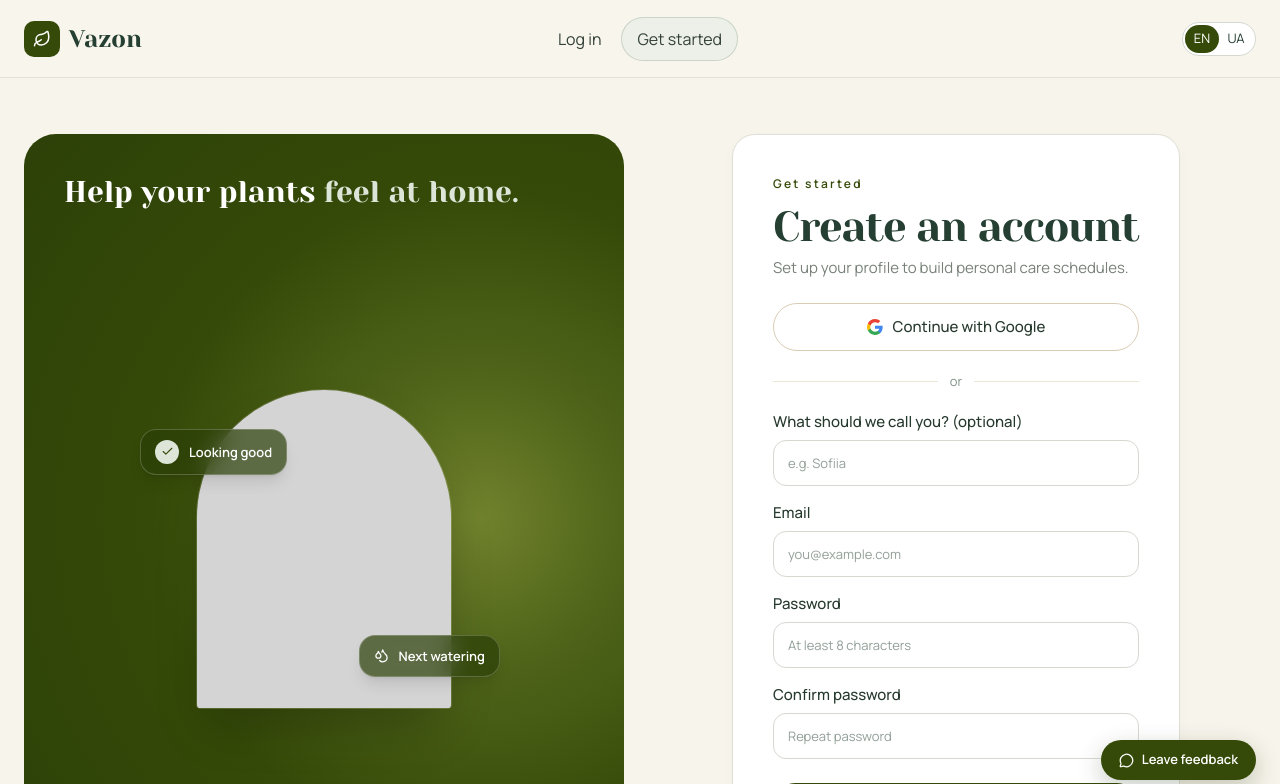
App routing and auth › registers, logs out, and handles login error
This screenshot has width=1280, height=784.
Type "a@b.com" into the field labelled "Email". click: (956, 554)
box: [773,531,1139,577]
Type "password123" into the password field labelled "Password". click: (956, 645)
box: [773,622,1139,668]
Type "password123" into the password field labelled "Confirm password". click: (956, 736)
box: [773,713,1139,759]
(page scrolled)
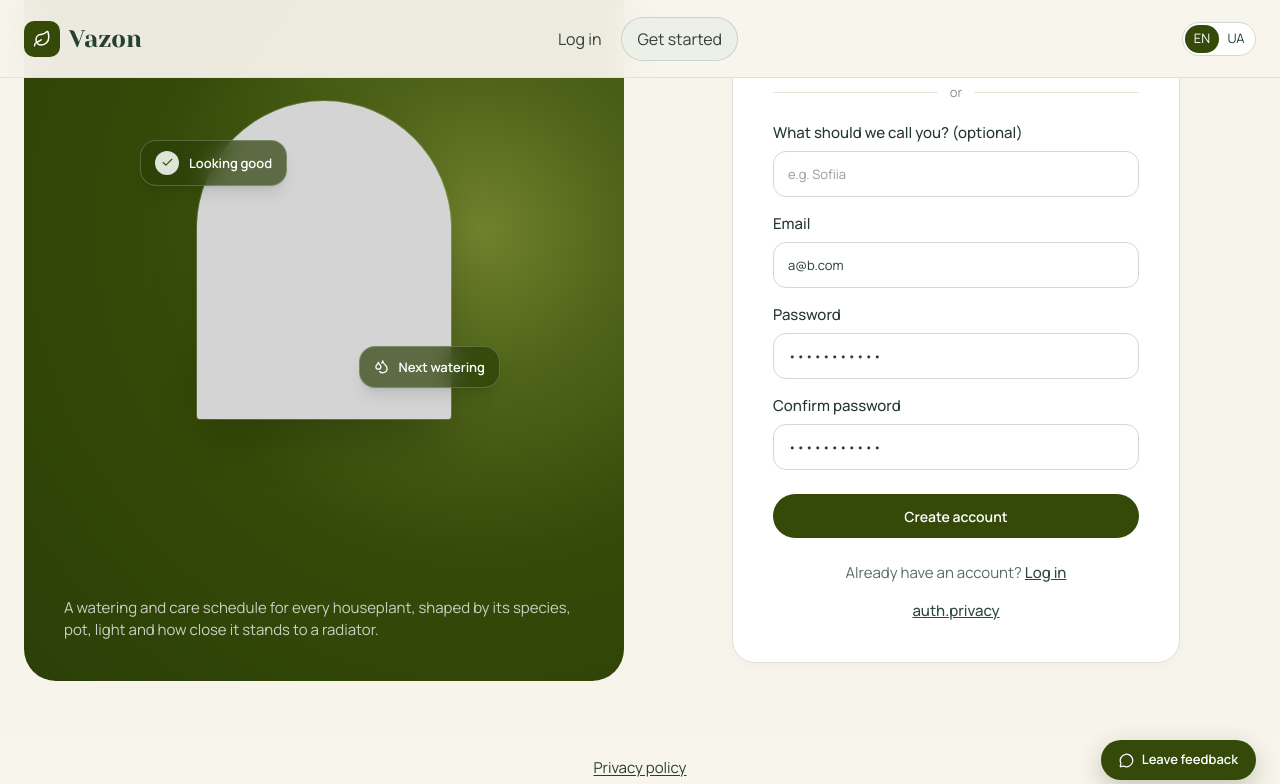
Click the button "Create account". click: (956, 516)
box: [773,494,1139,538]
(page scrolled)
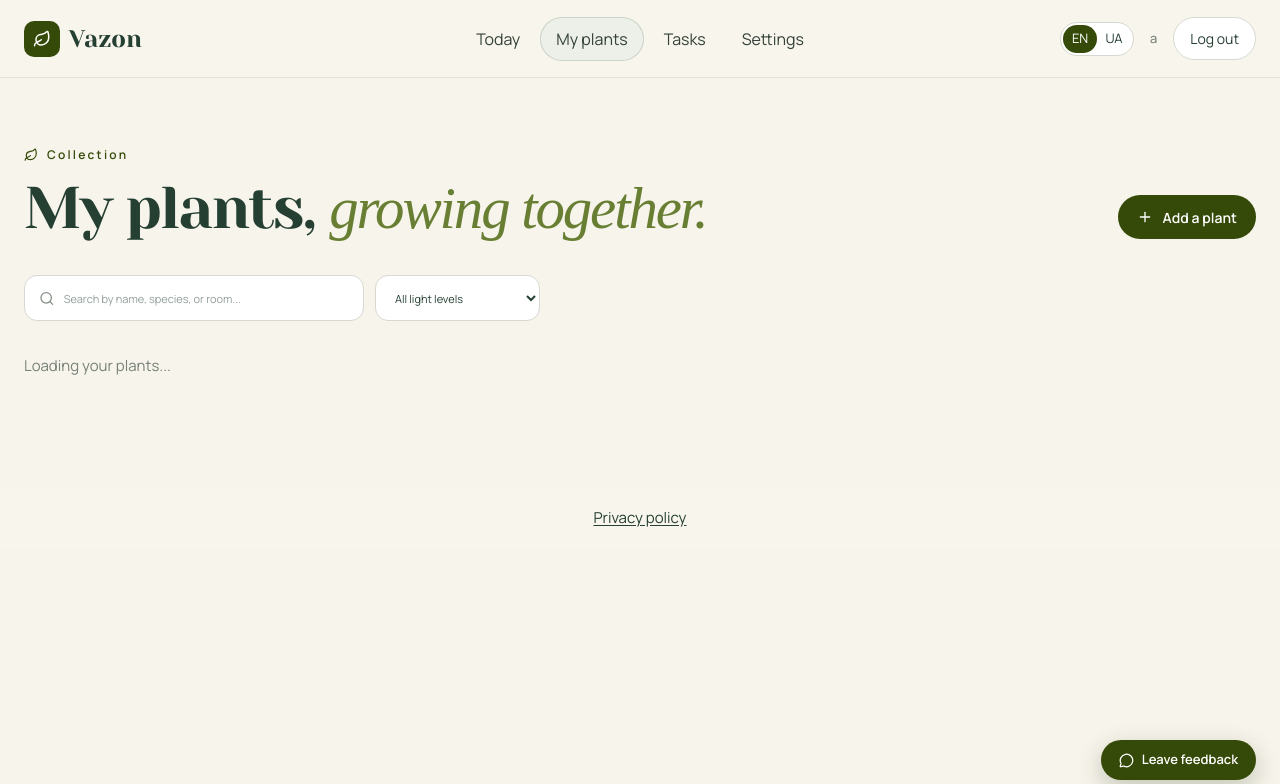
Expected: the heading "My plants, growing together." is shown, [24,178,707,239]
Click the button "Log out". click: (1215, 38)
box: [1173,17,1256,60]
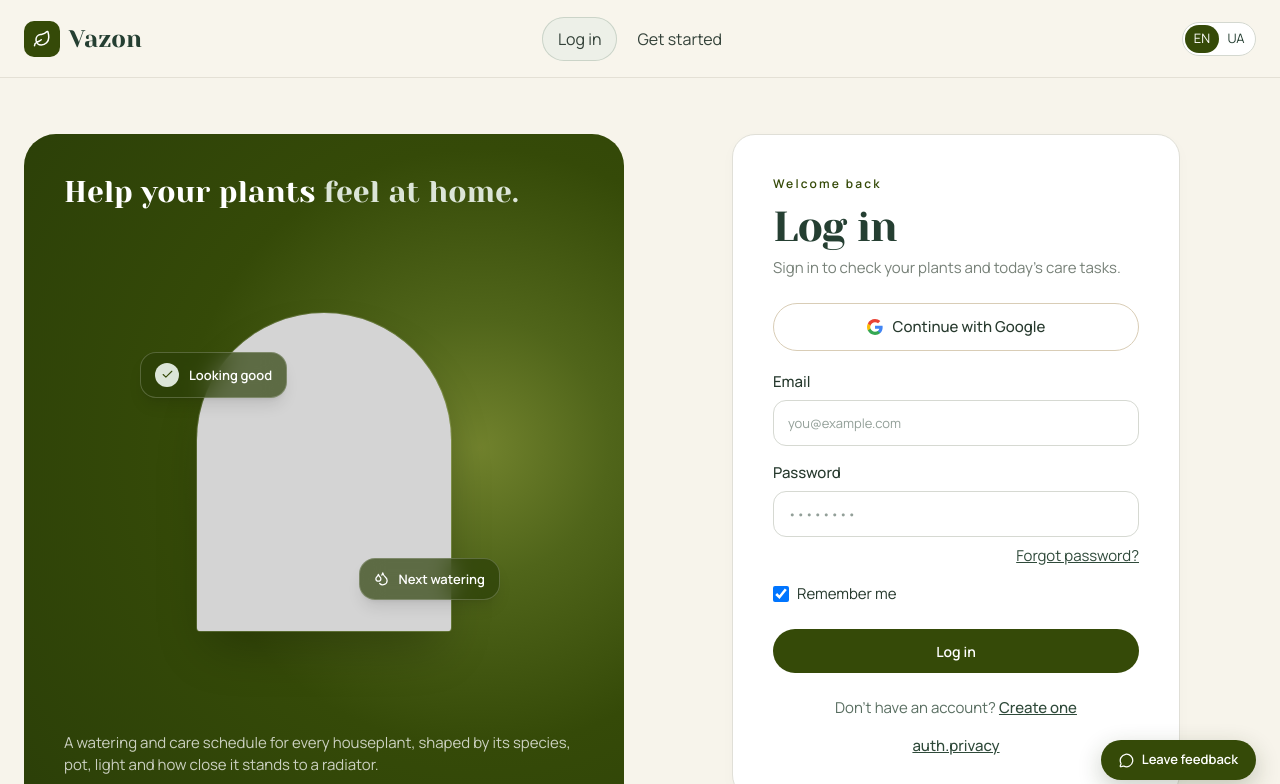
Expected: the heading "Log in" is shown, [773,203,896,251]
Type "bad@b.com" into the field labelled "Email". click: (956, 423)
box: [773,400,1139,446]
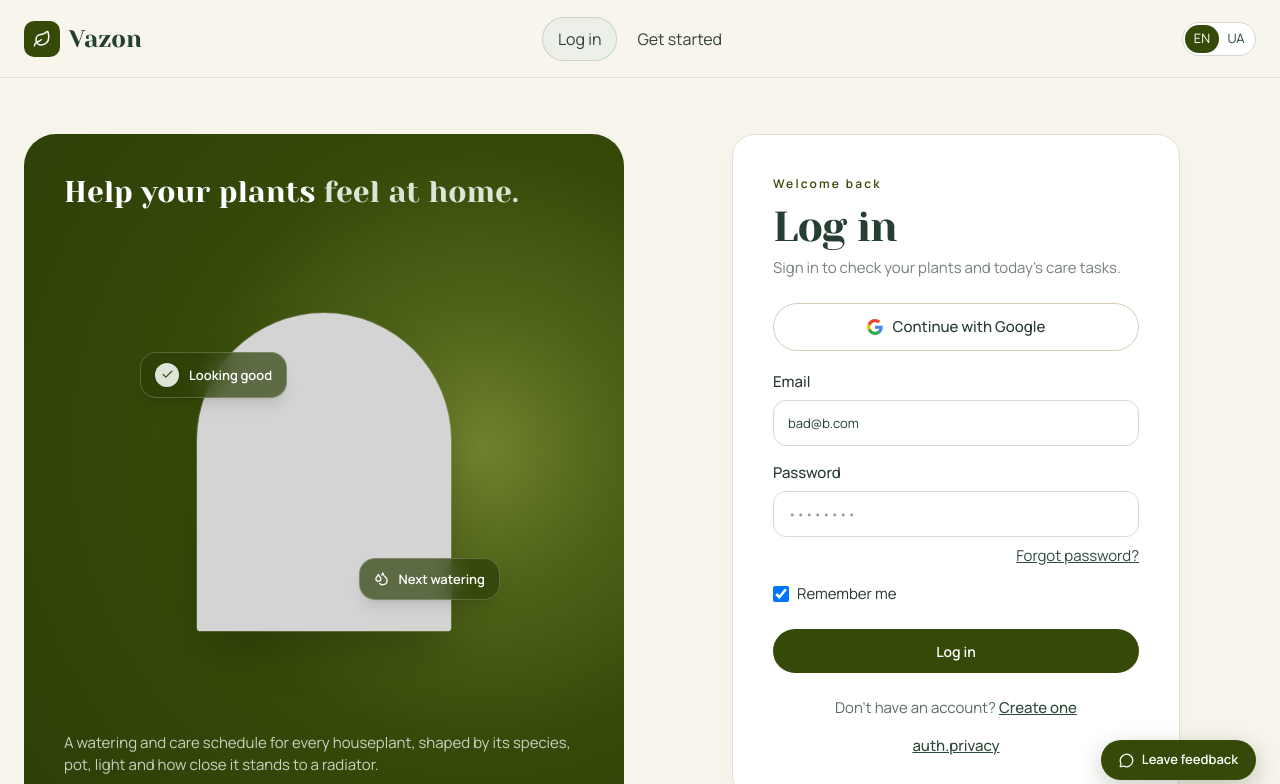
Type "wrong" into the password field labelled "Password". click: (956, 514)
box: [773,491,1139,537]
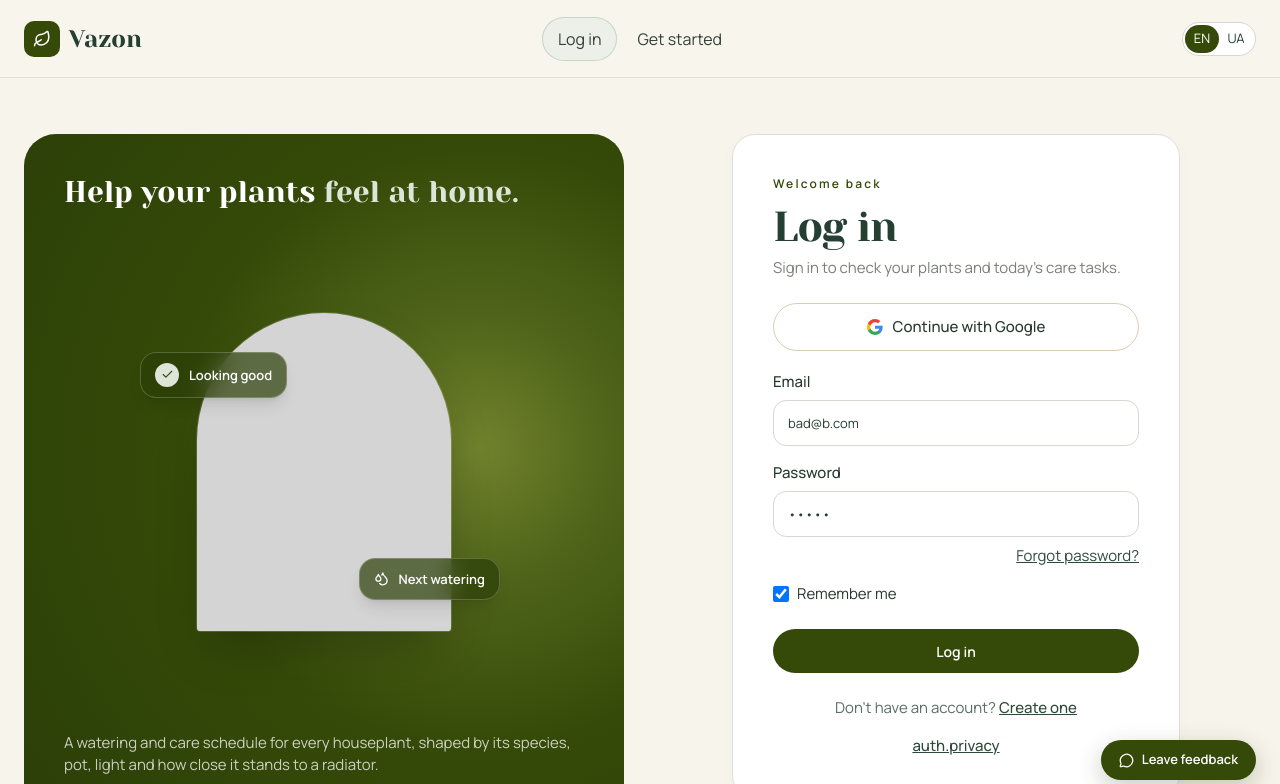
Click the button "Log in". click: (956, 651)
box: [773,629,1139,673]
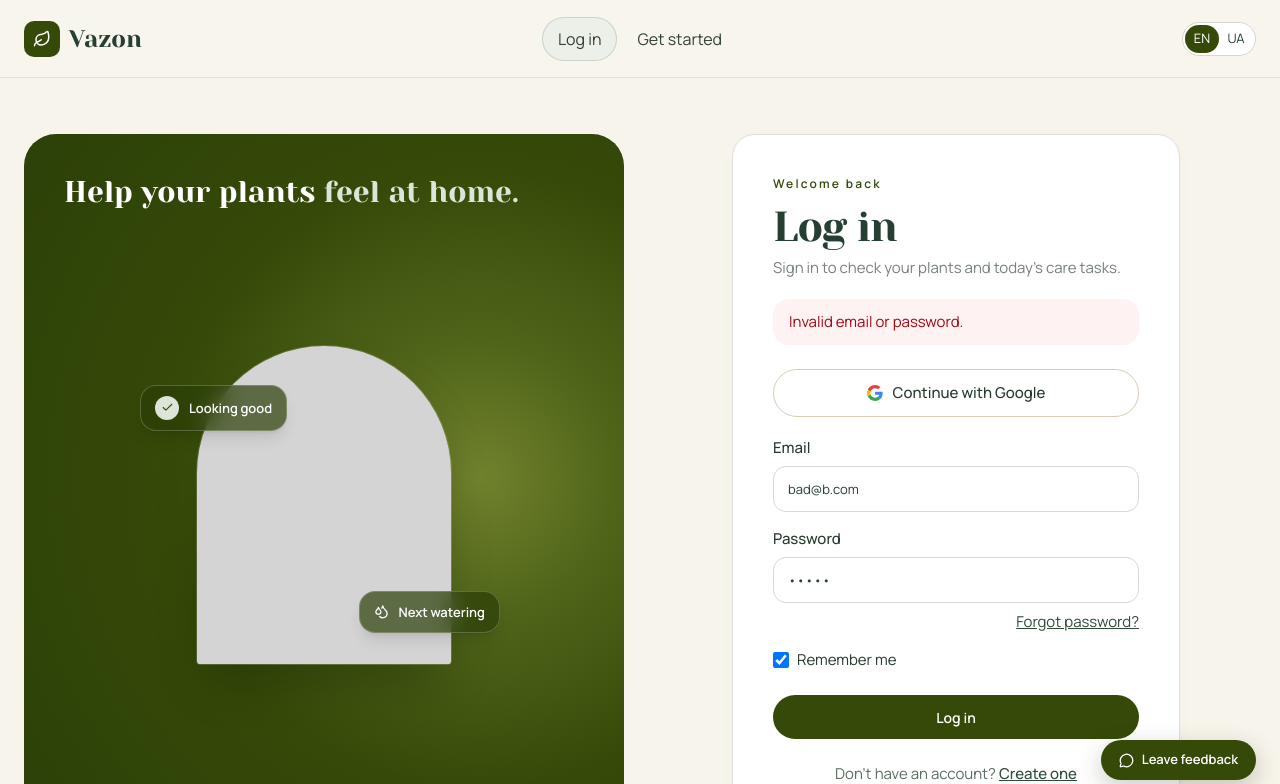
Expected: the message shows "Invalid email or password", [789,311,963,332]
